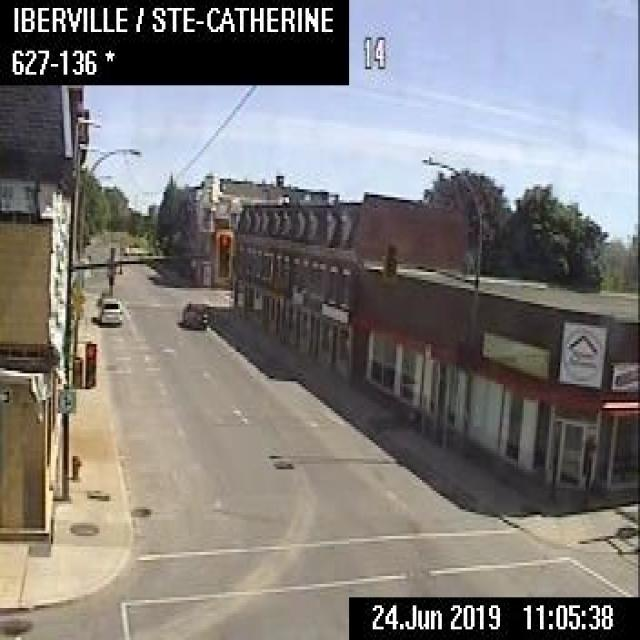vehicle: (180, 298, 207, 328), (100, 293, 122, 323)
